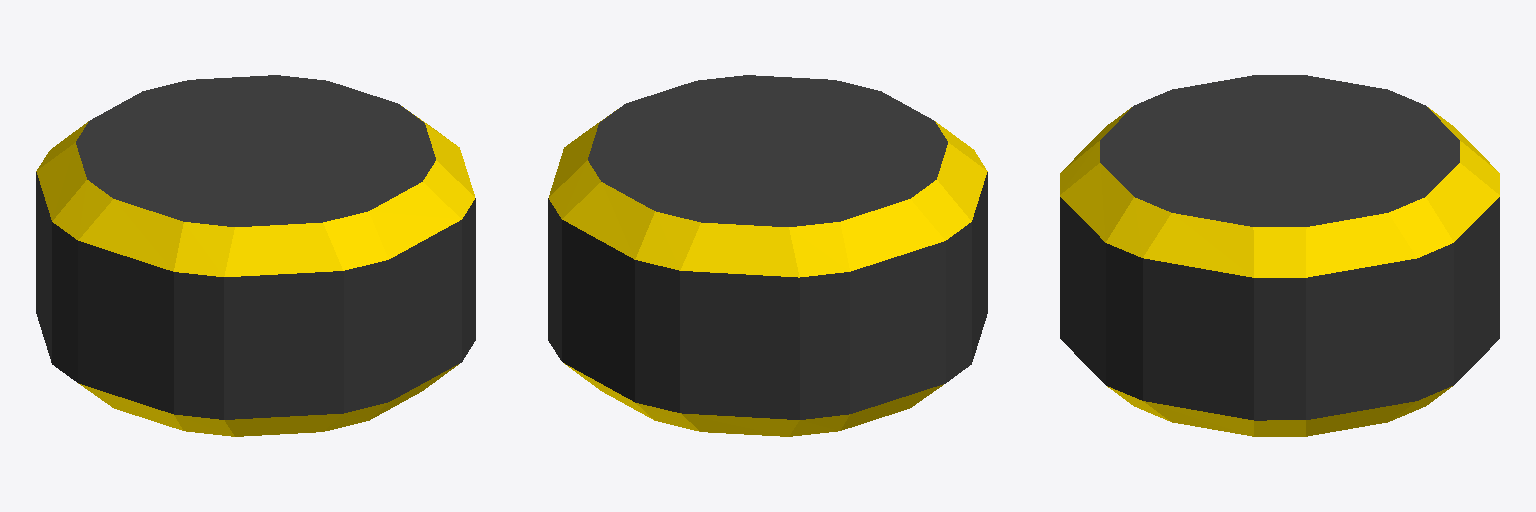
3 renders of one model, left to right at view 1: azimuth 30°, elevation 25°; view 2: azimuth 150°, elevation 25°; view 3: azimuth 270°, elevation 25°, orthographic.
Visible parts, largest first — view 1: pCylinder1; view 2: pCylinder1; view 3: pCylinder1.
Part boxes in pixels (x1,y1,x2,y2): pCylinder1: (36, 75, 475, 436); pCylinder1: (548, 75, 987, 436); pCylinder1: (1060, 75, 1499, 436).
Size of the model in its own units: 0.9533 by 0.5 by 0.9533.
Materials: 1 (1 with a texture image).